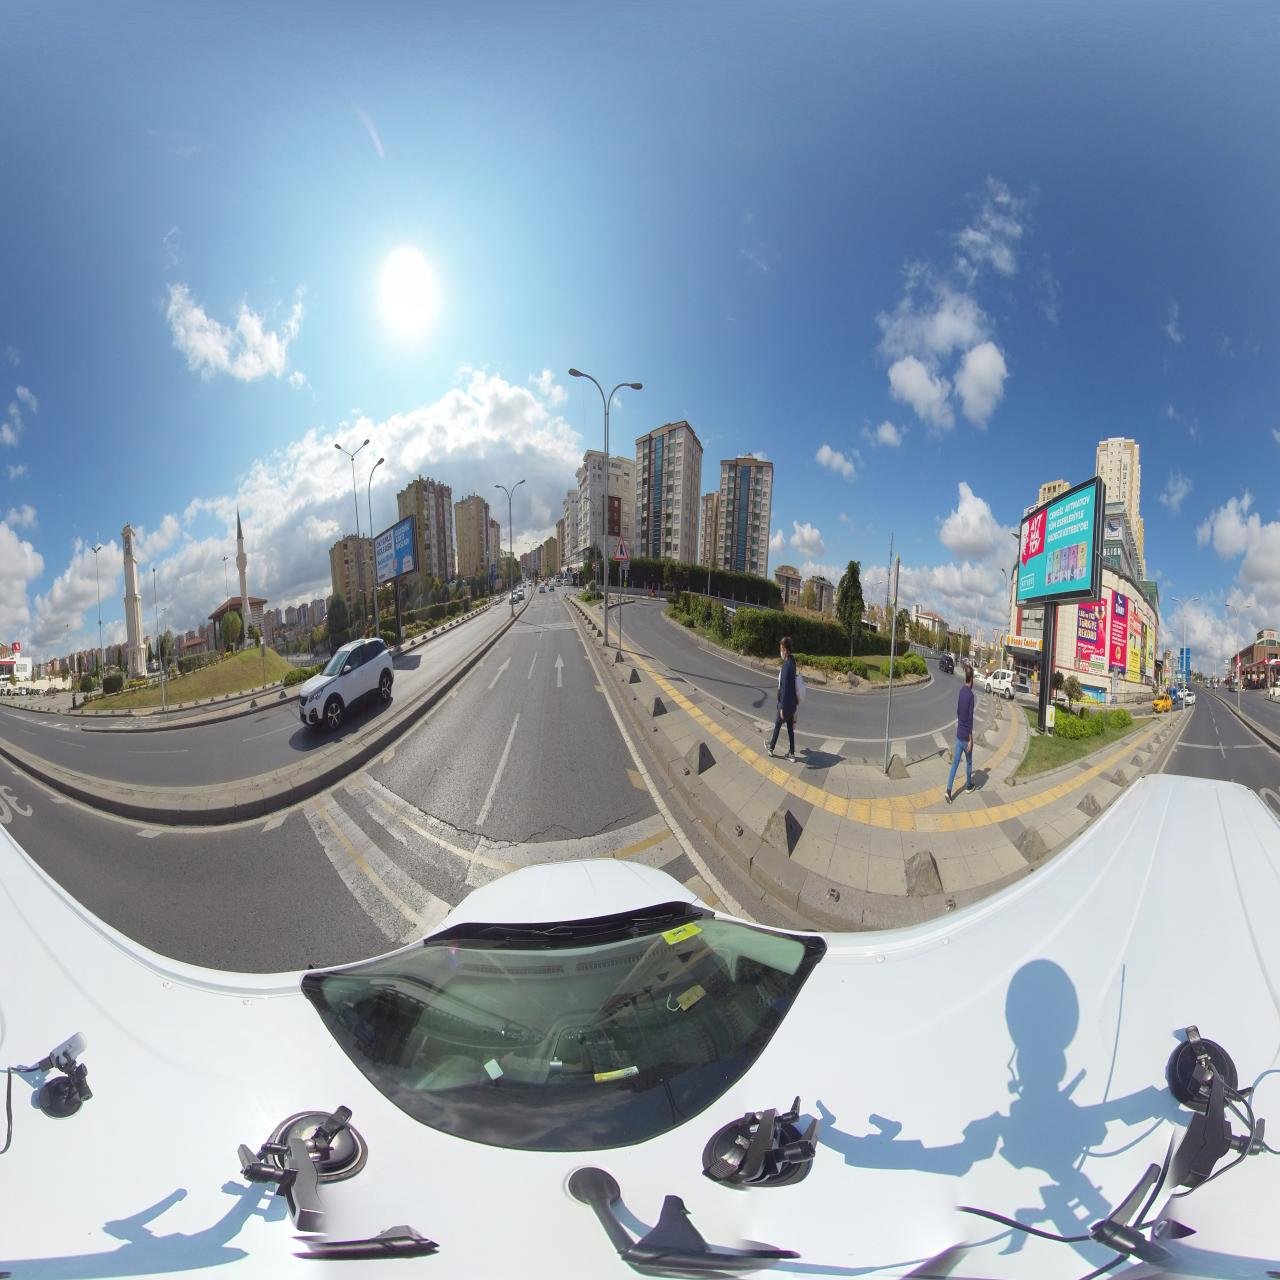SignStore: (1007, 634, 1042, 652)
